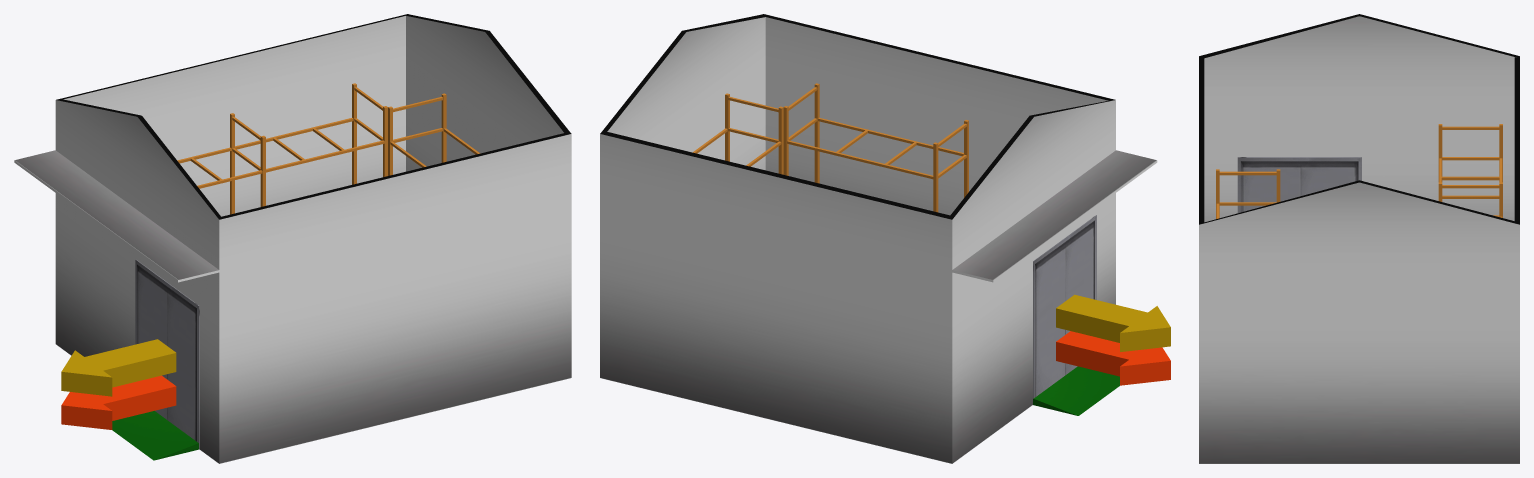
File: soubrain_T1-5-1F.glb
3 views of the same model, side by side, from view 1: azimuth 30°, elevation 25°; view 2: azimuth 150°, elevation 25°; view 3: azimuth 270°, elevation 25° (orthographic). The views are drawn at different scales.
Visible parts, largest first — view 1: Box140, T1-5-1F, Rectangle1069, arrow_Y_1_T1-5-1F, arrow_R_1_T1-5-1F, Box138; view 2: Box140, T1-5-1F, Rectangle1069, arrow_Y_1_T1-5-1F, arrow_R_1_T1-5-1F, Box138; view 3: Box140, T1-5-1F, Rectangle1069.
Part boxes in pixels (x1=…): Box140: x1=14, y1=14, x2=571, y2=463; T1-5-1F: x1=135, y1=259, x2=199, y2=449; Rectangle1069: x1=177, y1=83, x2=480, y2=214; arrow_Y_1_T1-5-1F: x1=61, y1=339, x2=176, y2=396; arrow_R_1_T1-5-1F: x1=61, y1=375, x2=176, y2=429; Box138: x1=112, y1=411, x2=198, y2=460; Box140: x1=600, y1=14, x2=1157, y2=463; T1-5-1F: x1=1033, y1=215, x2=1096, y2=398; Rectangle1069: x1=692, y1=83, x2=968, y2=212; arrow_Y_1_T1-5-1F: x1=1056, y1=294, x2=1170, y2=351; arrow_R_1_T1-5-1F: x1=1056, y1=331, x2=1170, y2=385; Box138: x1=1033, y1=366, x2=1119, y2=415; Box140: x1=1199, y1=14, x2=1519, y2=463; T1-5-1F: x1=1237, y1=157, x2=1361, y2=213; Rectangle1069: x1=1216, y1=124, x2=1502, y2=218.
Bounding box in the file's own units: 10.03 × 6 × 6.2.
Materials: 7 (4 with a texture image).
